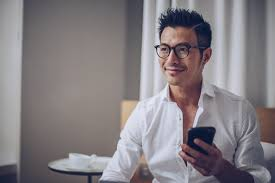asian_male: (157, 8, 223, 96)
